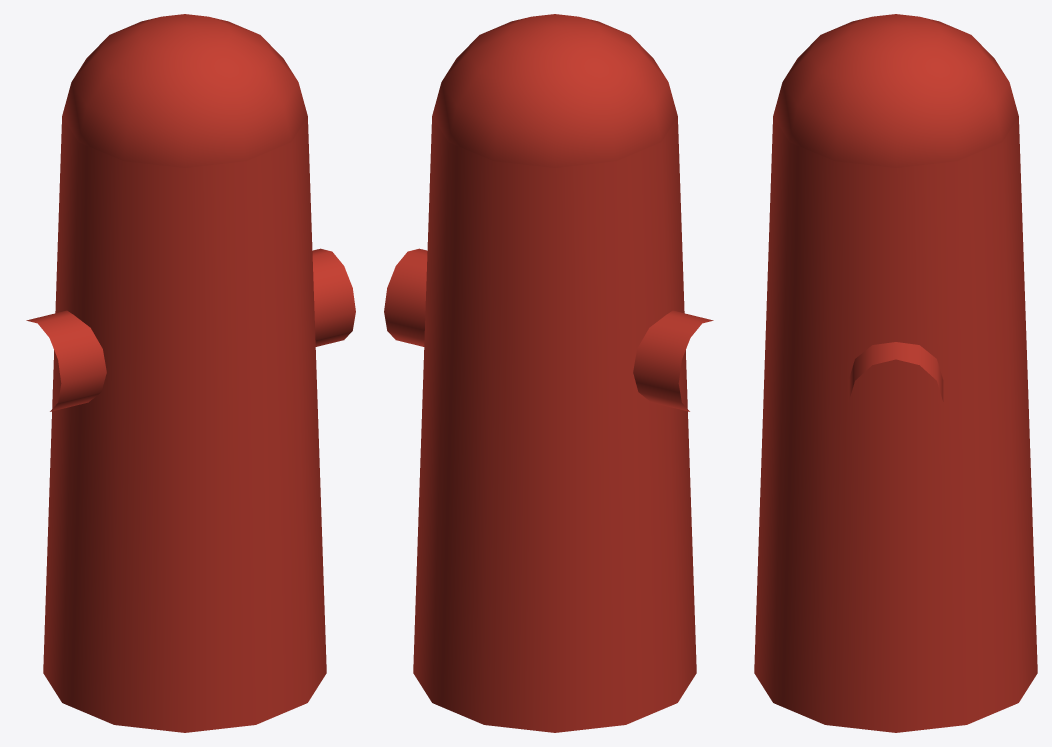
File: hydrant.glb
3 views of the same model, side by side, from view 1: azimuth 30°, elevation 25°; view 2: azimuth 150°, elevation 25°; view 3: azimuth 270°, elevation 25° (orthographic).
Bounding box in the file's own units: 0.36 × 0.754 × 0.3.
